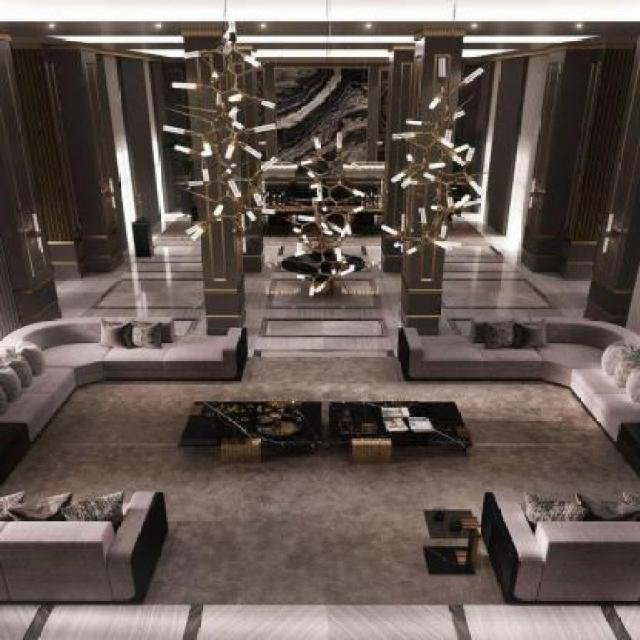Floor: (39, 604, 639, 639), (438, 208, 592, 335), (242, 246, 402, 356), (55, 247, 207, 336)
